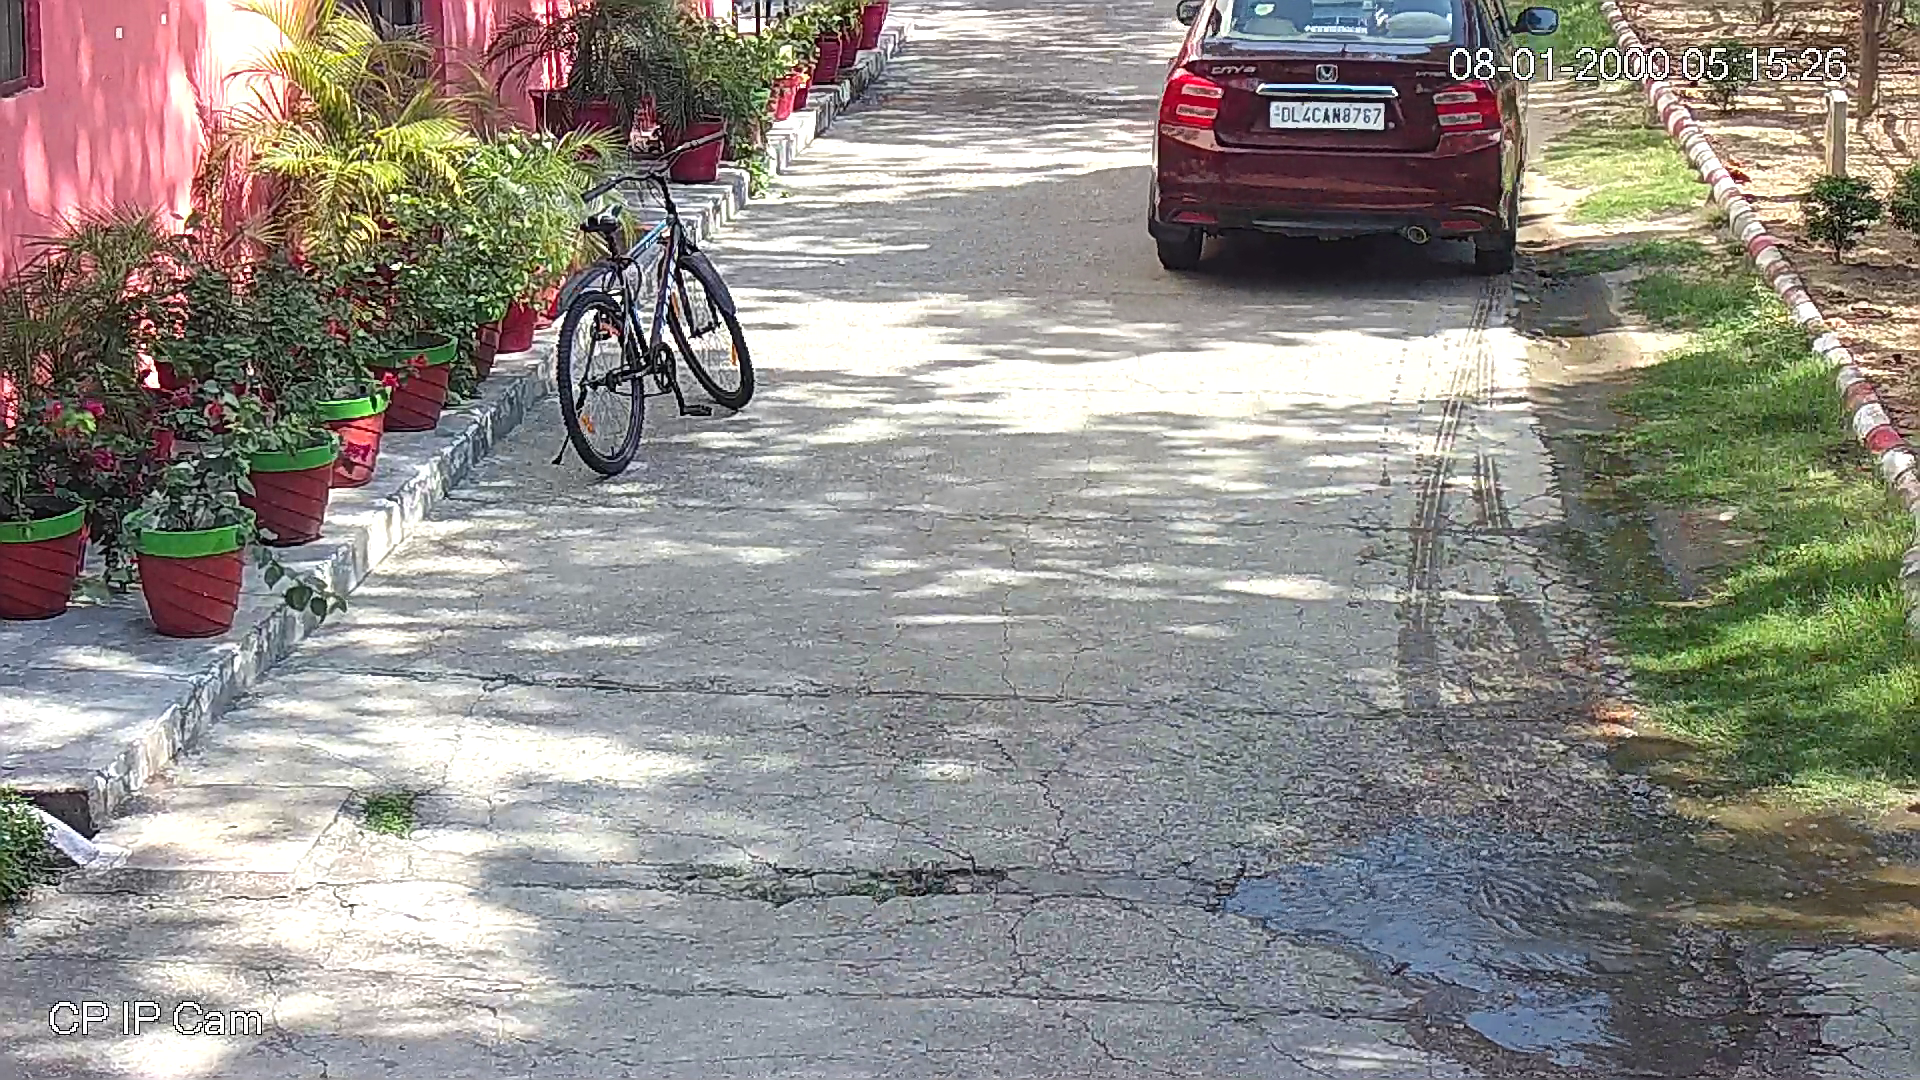plate: (1259, 97, 1390, 132)
